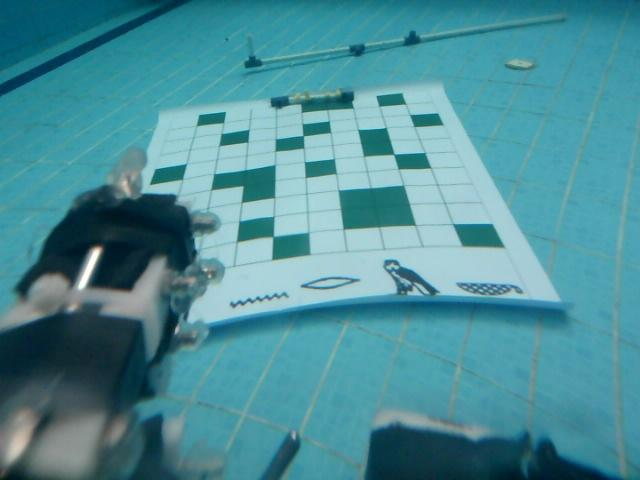Basket: (455, 278, 531, 301)
Mouth: (301, 276, 361, 290)
Owl: (377, 256, 441, 299)
Water: (224, 293, 294, 311)
